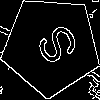S: (26, 21, 81, 74)
